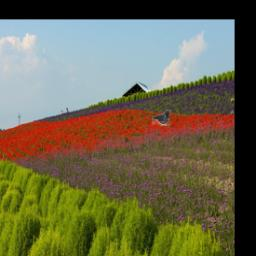Crow: (151, 111, 170, 127)
